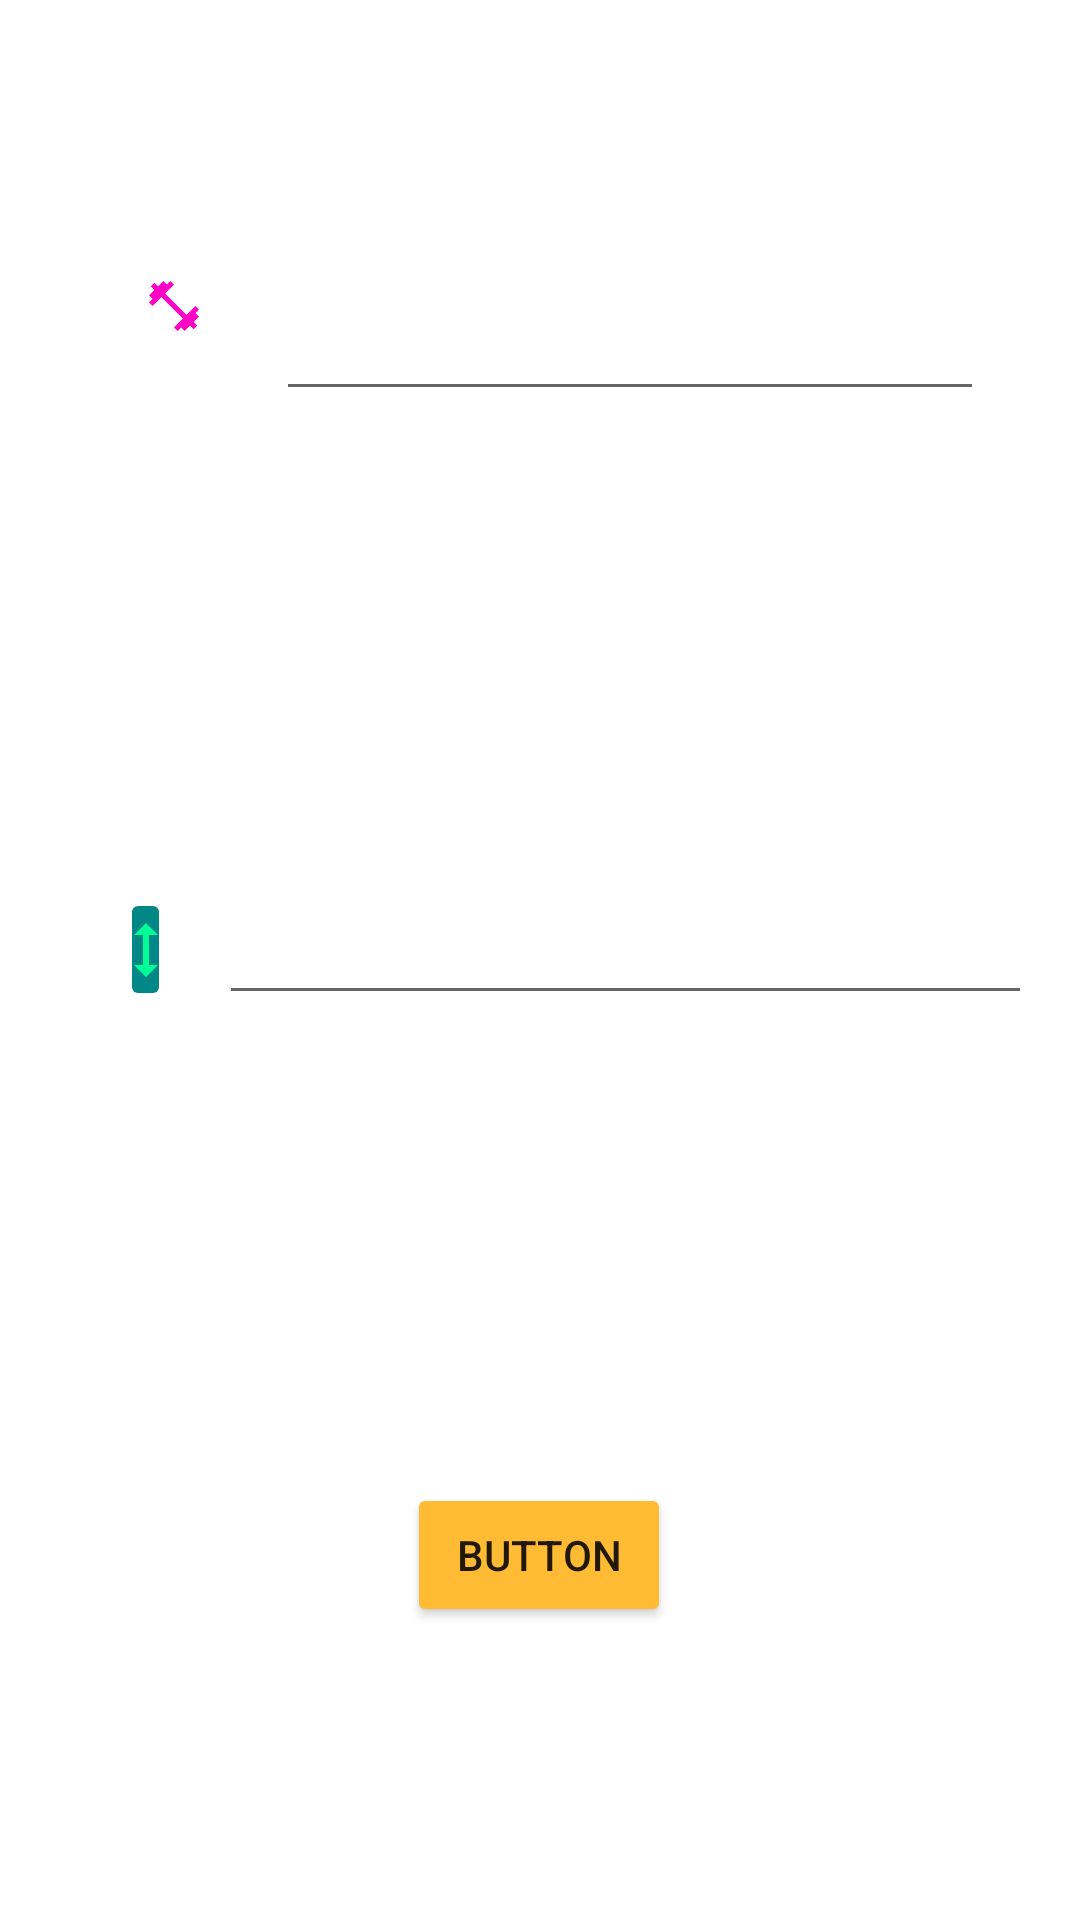

Where icons sit on this 1080×1920 app screen, as [x1, y1, x2, y2]:
fitness center: [149, 281, 199, 331]
height: [132, 906, 159, 993]
